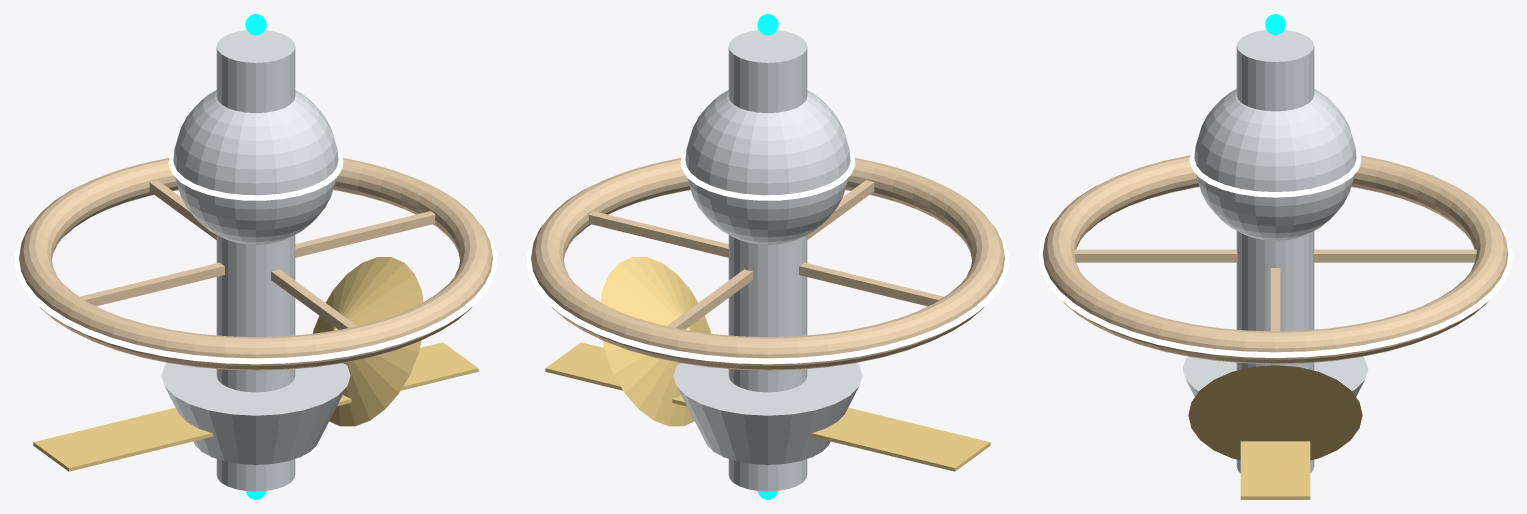
The model's file is saturn-titan-station.glb.
3 views of the same model, side by side, from view 1: azimuth 30°, elevation 25°; view 2: azimuth 150°, elevation 25°; view 3: azimuth 270°, elevation 25° (orthographic).
Visible parts, largest first — view 1: station_body, rotor_ring; view 2: station_body, rotor_ring; view 3: station_body, rotor_ring.
Part boxes in pixels (x1=…): station_body: x1=33, y1=14, x2=478, y2=499; rotor_ring: x1=14, y1=148, x2=497, y2=370; station_body: x1=545, y1=14, x2=990, y2=499; rotor_ring: x1=526, y1=148, x2=1009, y2=370; station_body: x1=1182, y1=14, x2=1368, y2=499; rotor_ring: x1=1038, y1=146, x2=1512, y2=364.
Bounding box in the file's own units: 2.45 × 2.71 × 2.45.
